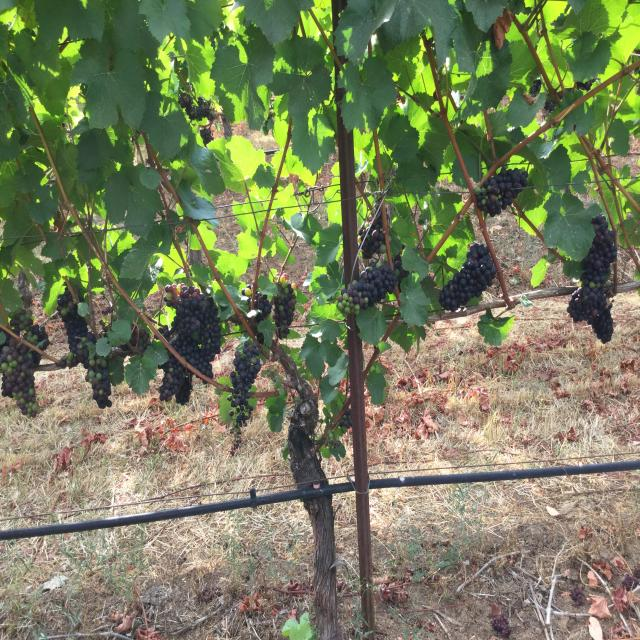grapes: (56, 287, 111, 408), (568, 215, 618, 343), (165, 285, 221, 377), (439, 243, 496, 312), (336, 262, 402, 315), (228, 340, 261, 428), (0, 345, 39, 417), (475, 167, 528, 217), (272, 275, 296, 340), (160, 355, 191, 403)
